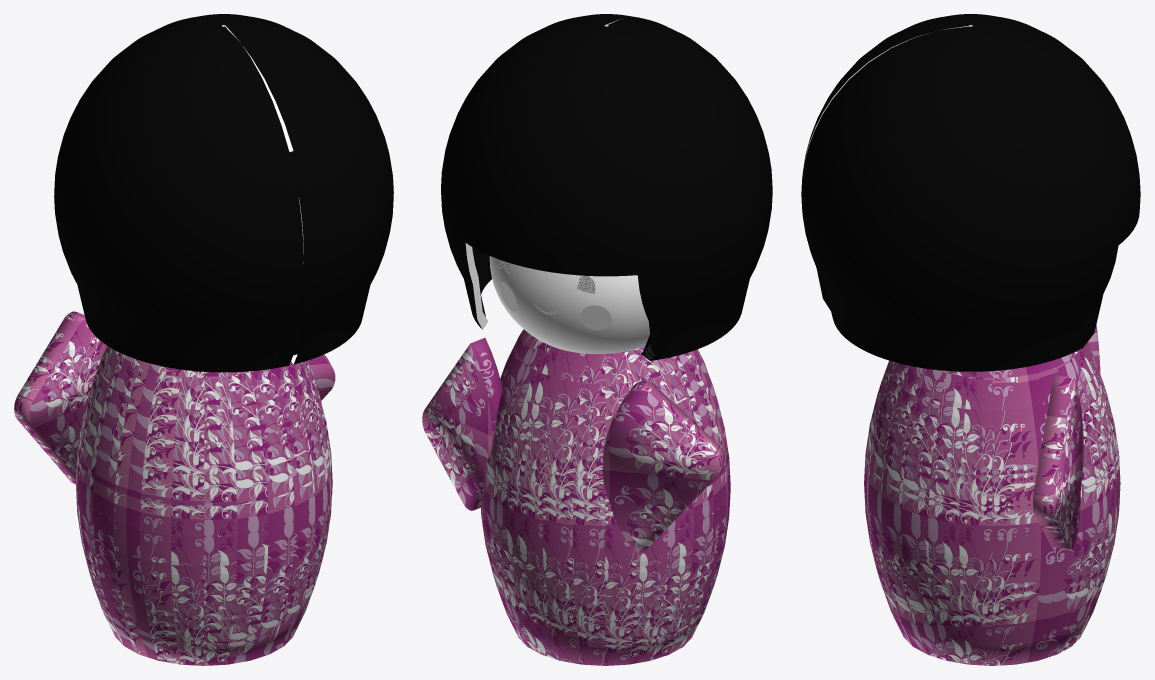
3 renders of one model, left to right at view 1: azimuth 30°, elevation 25°; view 2: azimuth 150°, elevation 25°; view 3: azimuth 270°, elevation 25°, orthographic. The views are drawn at different scales.
Visible parts, largest first — view 1: group_0, SketchUp, group_4, group_5; view 2: group_0 (×2), SketchUp (×2), group_4, group_1, group_5; view 3: group_0, SketchUp, group_5.
Boxes of the visible parts, x1,y1,x2,y2 form: group_0: [54, 14, 393, 372]; SketchUp: [75, 346, 332, 665]; group_4: [14, 311, 106, 484]; group_5: [308, 354, 335, 400]; group_0 (×2): [441, 14, 772, 360]; SketchUp (×2): [481, 305, 730, 665]; group_4: [602, 381, 724, 556]; group_1: [489, 256, 649, 353]; group_5: [422, 338, 502, 510]; group_0: [801, 14, 1140, 371]; SketchUp: [864, 343, 1120, 665]; group_5: [1033, 375, 1083, 549].
Size of the model in its own units: 26.68 by 25.26 by 49.77.
6 materials, 2 textured.
